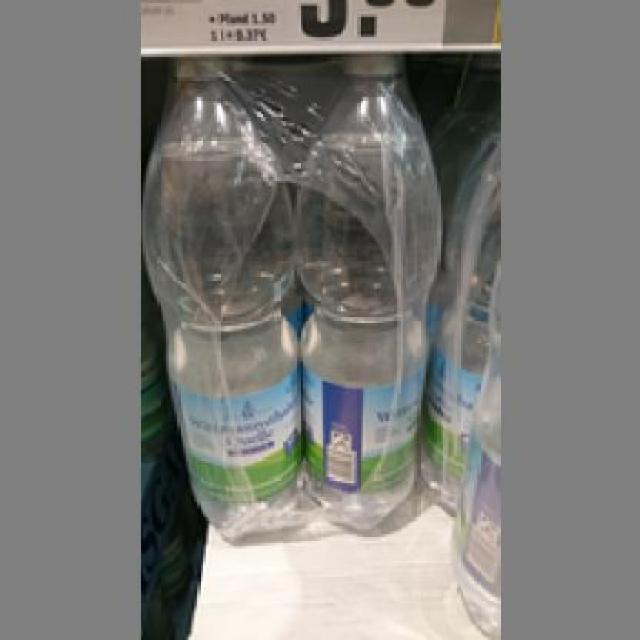Water: (143, 60, 303, 540), (294, 54, 437, 526)
